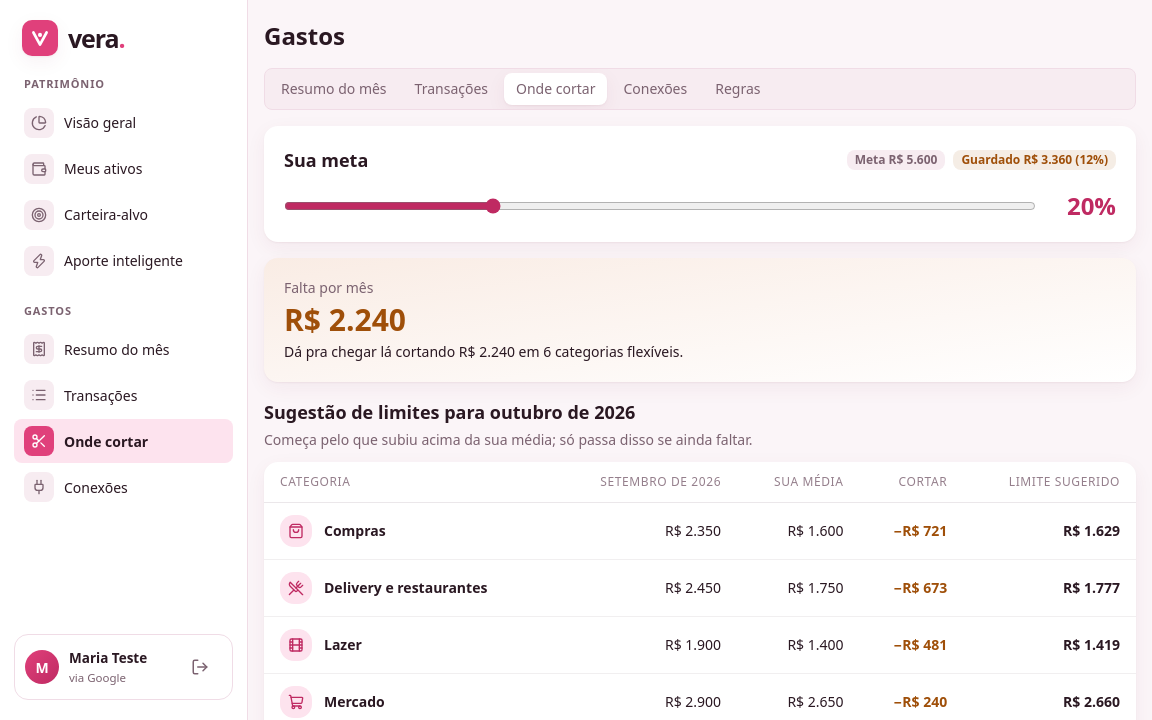
Test: CutsPage: slider › falha ao salvar mostra o erro e mantém o rascunho
Expected: the text "Falta por mês" is shown, [284,278,374,297]
Set the slider named "Meta de economia" to "35". click: (693,206)
box: [284,202,1036,210]
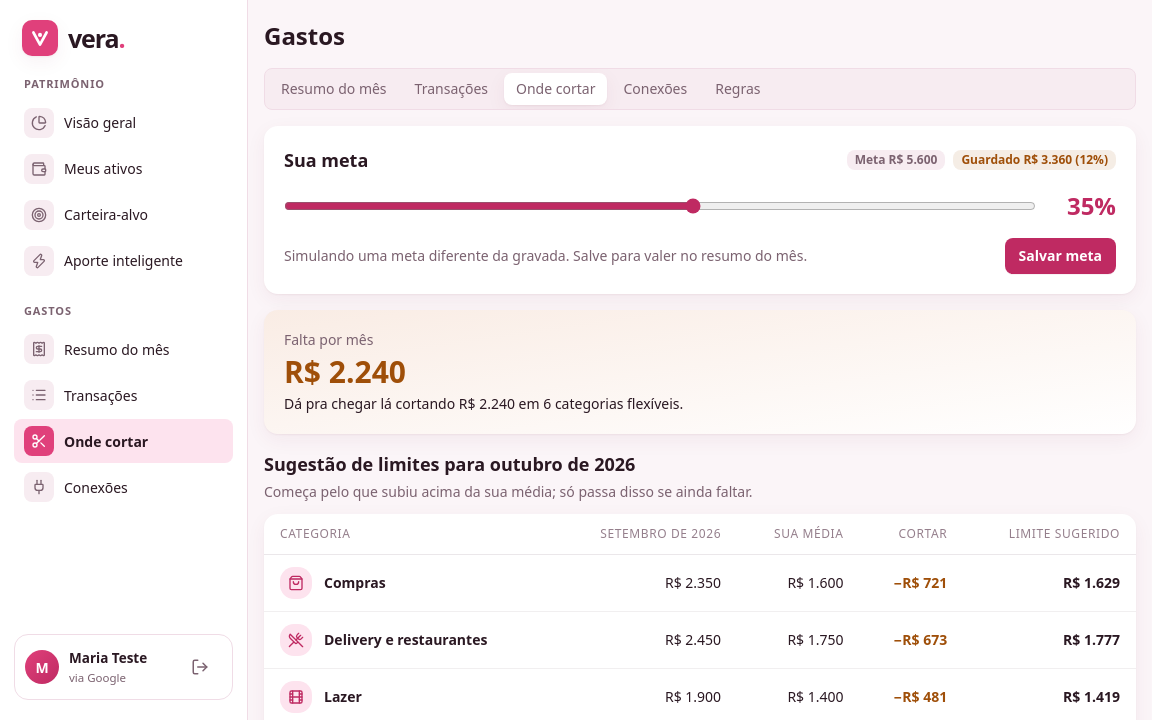
Click the button "Salvar meta". click: (1060,256)
box: [1005,238,1116,274]
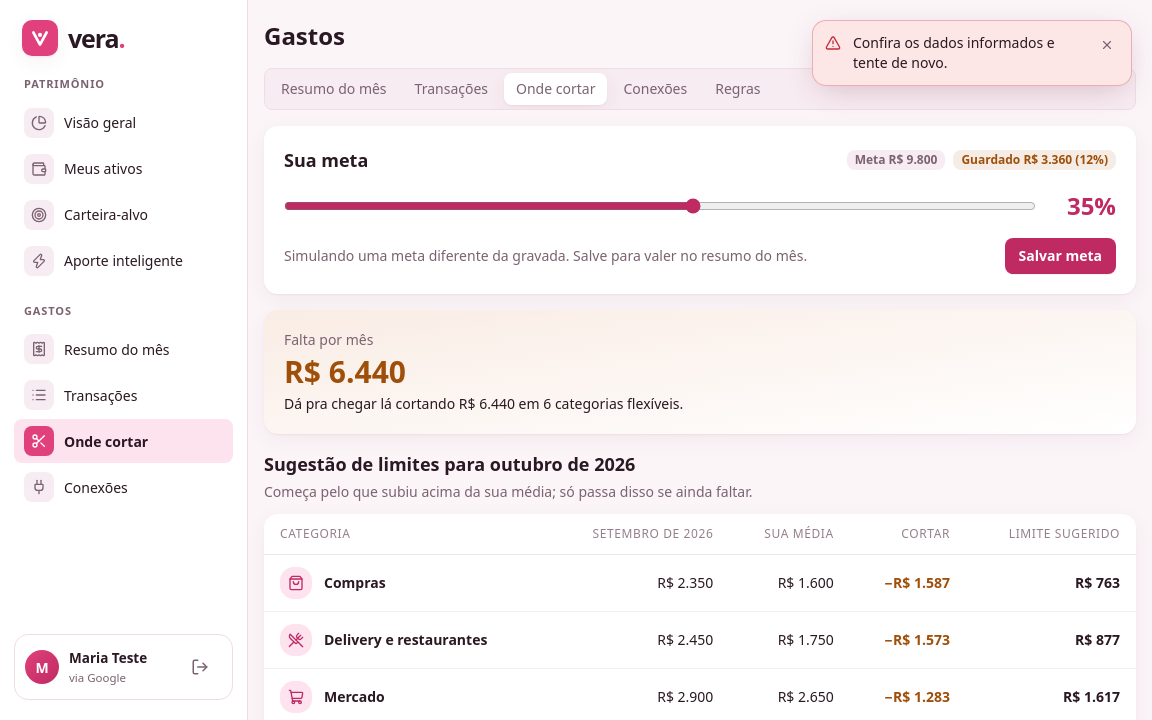
Expected: the button "Salvar meta" is shown, [1005,238,1116,274]
Expected: the text "Confira os dados informados e tente de novo." is shown, [853,33,1083,73]
